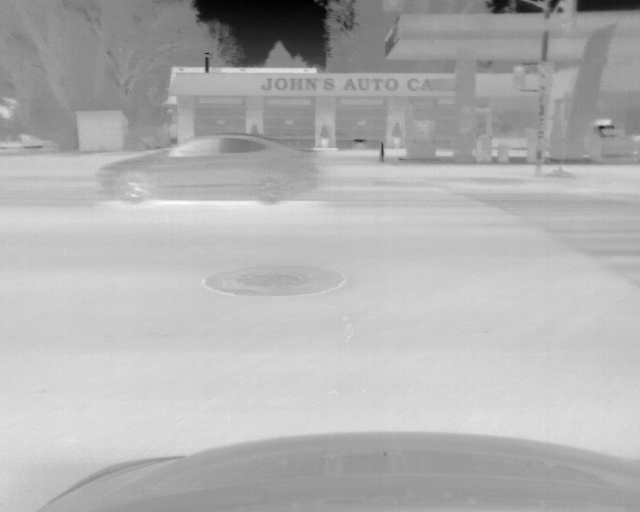car: (96, 133, 321, 205)
